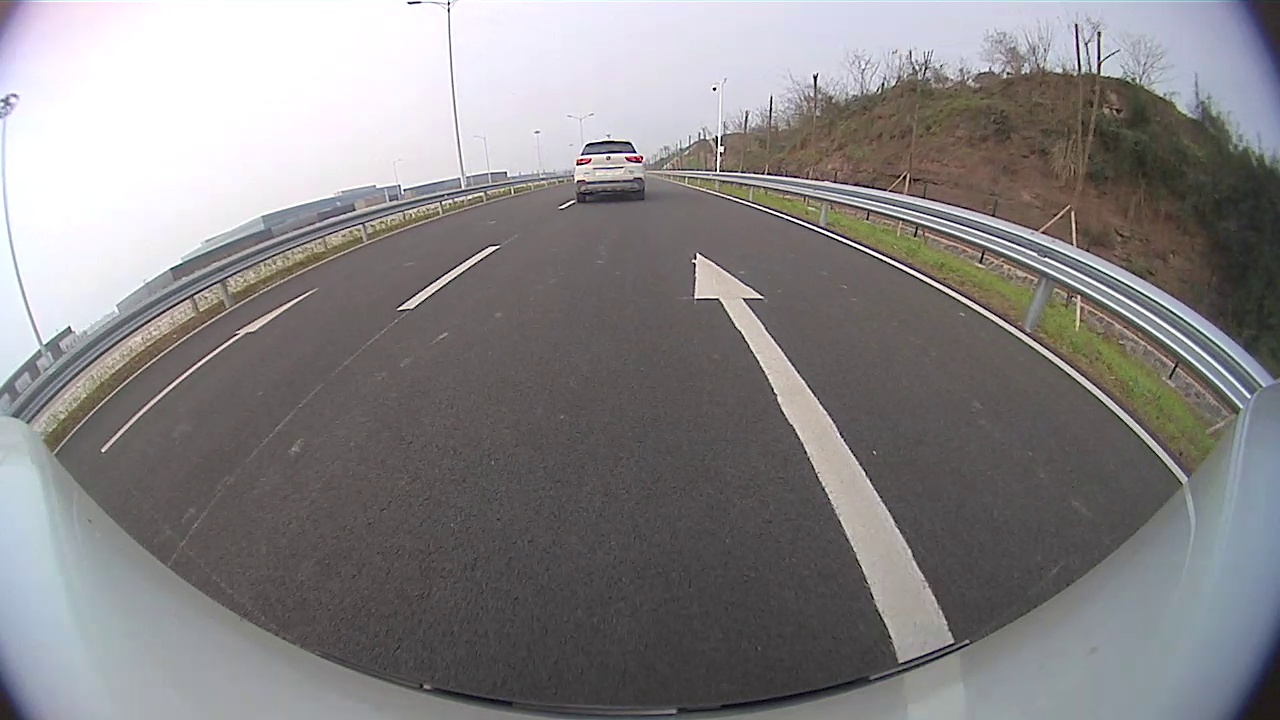car: (572, 138, 647, 205)
